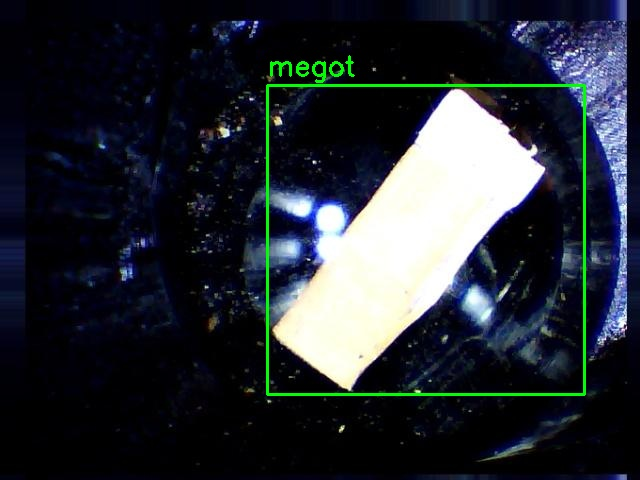megot: (267, 85, 584, 394)
